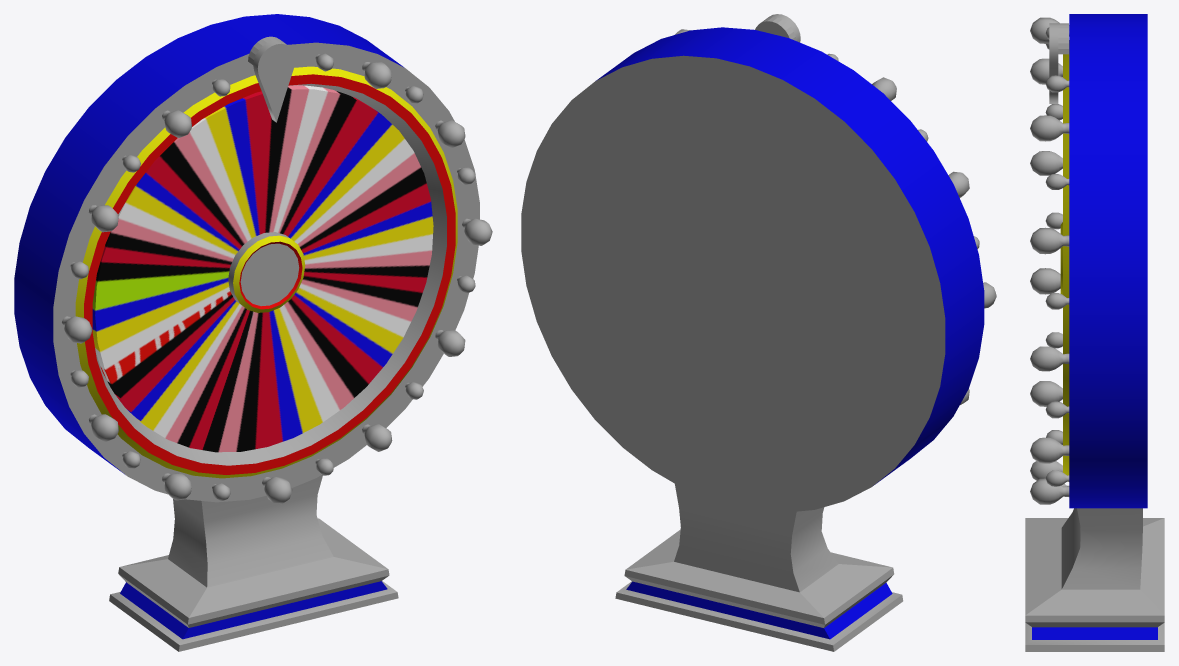
The model's file is SM_WheelPrototype.fbx.
3 renders of one model, left to right at view 1: azimuth 30°, elevation 25°; view 2: azimuth 150°, elevation 25°; view 3: azimuth 270°, elevation 25°, orthographic.
Visible parts, largest first — view 1: Wheel, MainFrame, Stand, Lights, CenterSphere, Pointer; view 2: MainFrame, Stand, Lights, Pointer; view 3: MainFrame, Stand, Lights, Pointer.
Boxes of the visible parts, <box> form: Wheel: <box>92,85,433,452</box>; MainFrame: <box>14,14,479,502</box>; Stand: <box>109,475,398,651</box>; Lights: <box>62,53,492,504</box>; CenterSphere: <box>228,232,305,312</box>; Pointer: <box>248,36,295,122</box>; MainFrame: <box>521,27,984,512</box>; Stand: <box>615,484,903,651</box>; Lights: <box>675,29,996,404</box>; Pointer: <box>755,14,800,42</box>; MainFrame: <box>1063,14,1147,508</box>; Stand: <box>1025,508,1164,651</box>; Lights: <box>1030,17,1069,504</box>; Pointer: <box>1049,23,1068,103</box>.
Bounding box in the file's own units: 172 × 221 × 48.73.
